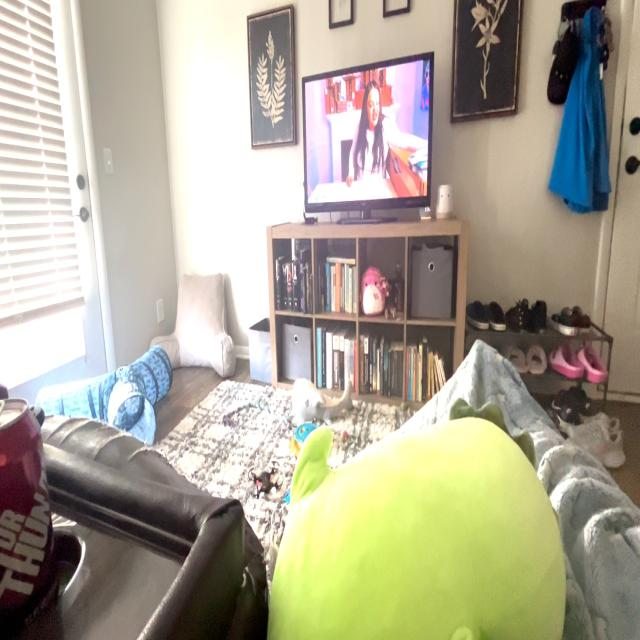drone: (236, 452, 298, 522)
